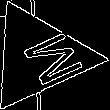M_SW: (2, 24, 76, 89)
